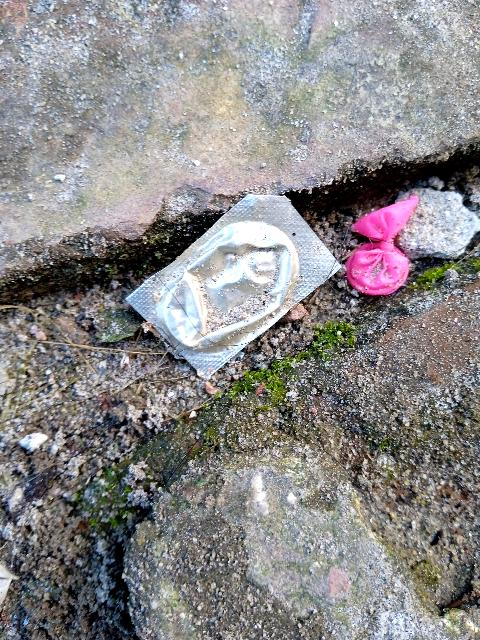medicine: (124, 171, 345, 387)
